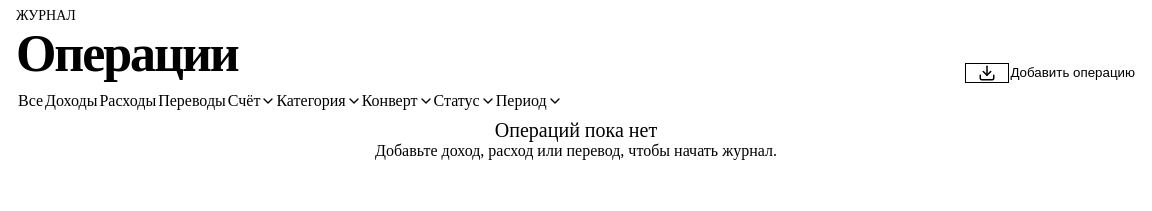
Test: operations page (v2 journal) › lets the owner download the v2 CSV export
What coordinates should you click on to do the following:
click the button named "Экспорт CSV"
I would click on:
 (987, 73)
Its box is [965,63,1009,83].
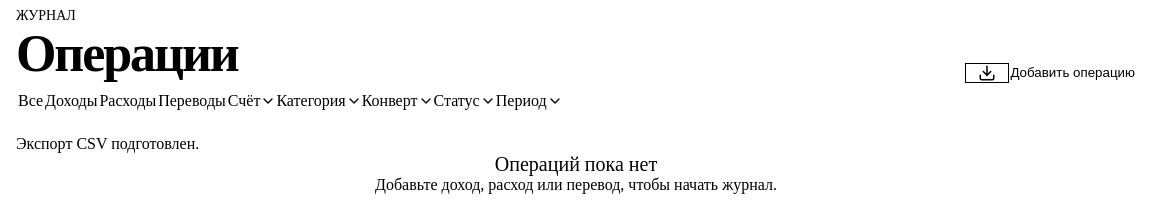
Now the message "Экспорт CSV подготовлен." is shown, box [16,135,199,152]
